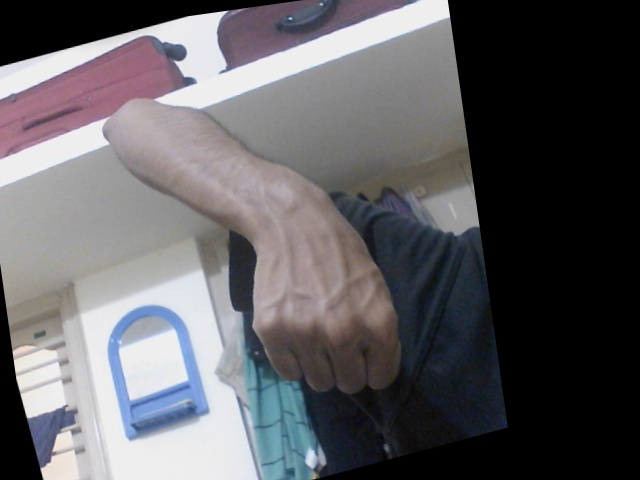hand: (247, 190, 406, 398)
